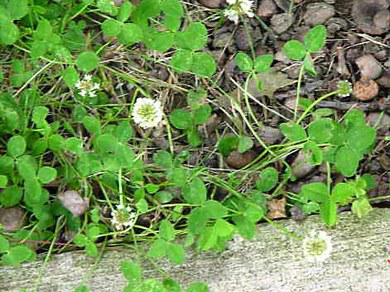clover: (5, 3, 381, 216)
